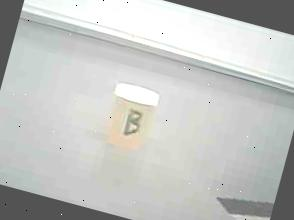Bottle B: (94, 76, 172, 164)
